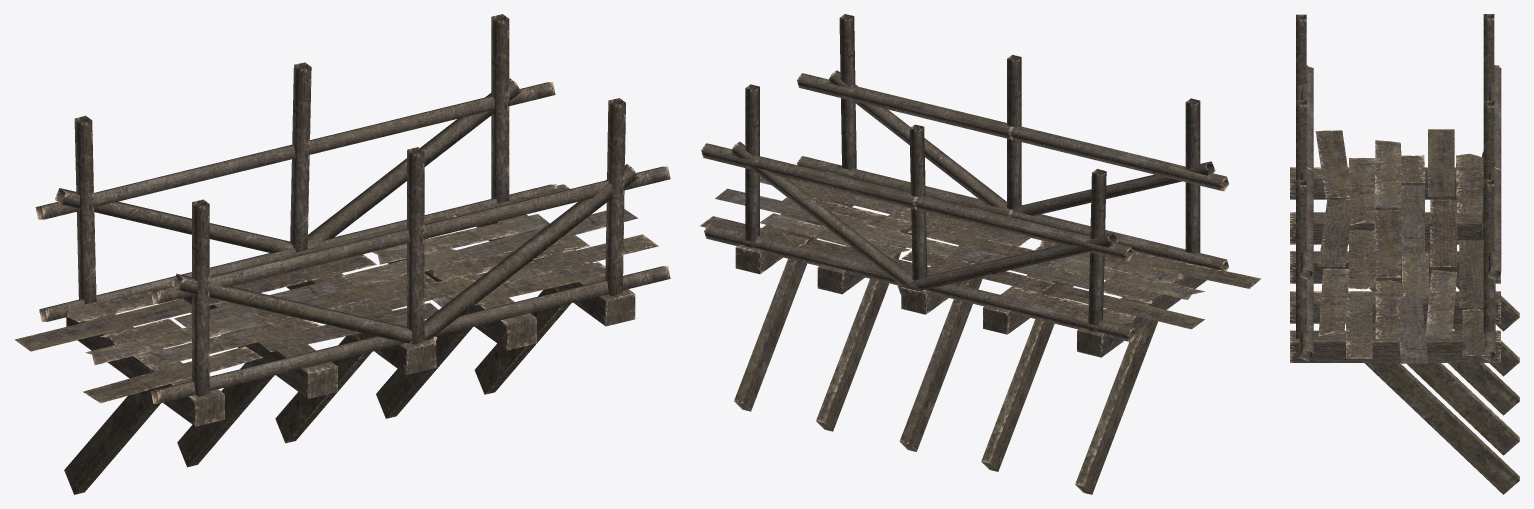
File: Scaffolding_WallmountedShort.fbx
The picture shows the model from 3 angles, left to right: view 1: azimuth 30°, elevation 25°; view 2: azimuth 150°, elevation 25°; view 3: azimuth 270°, elevation 25°; orthographic projection. The views are drawn at different scales.
Visible parts, largest first — view 1: CDTMesh_Scaffolding_WallmountedShort_LOD; view 2: CDTMesh_Scaffolding_WallmountedShort_LOD; view 3: CDTMesh_Scaffolding_WallmountedShort_LOD.
Part boxes in pixels (x1,y1,x2,y2): CDTMesh_Scaffolding_WallmountedShort_LOD: (14,14,670,494); CDTMesh_Scaffolding_WallmountedShort_LOD: (700,14,1261,494); CDTMesh_Scaffolding_WallmountedShort_LOD: (1290,14,1519,494).
Size of what is drawn, in the model's own units: 10.92 by 6.74 by 4.5.
